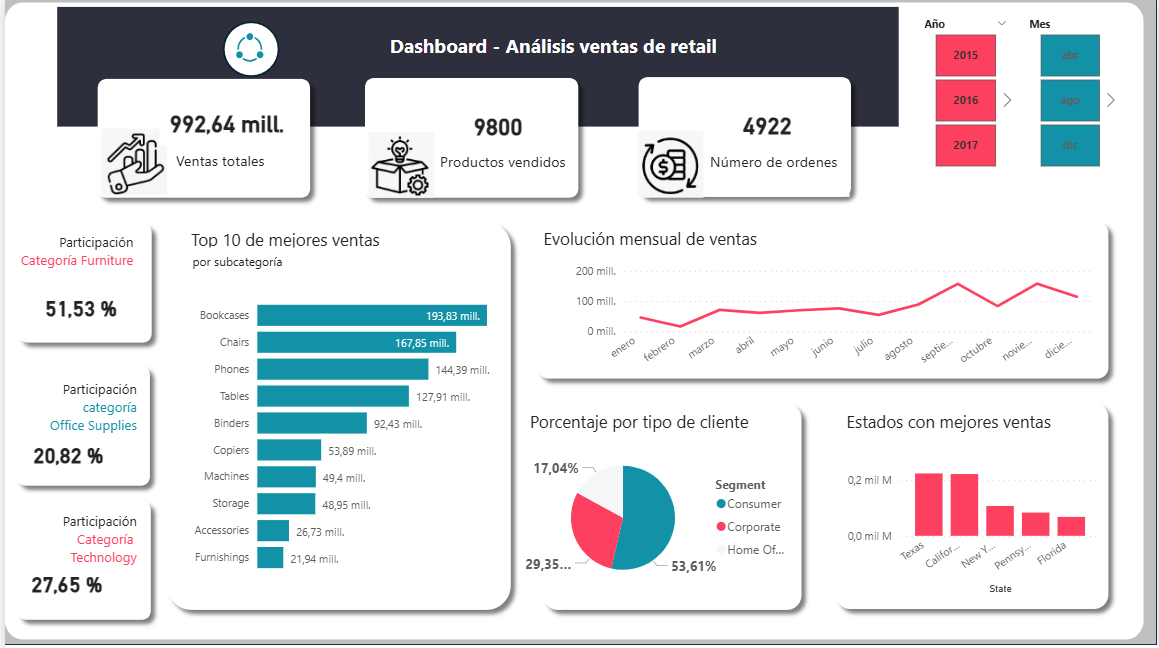

What the dashboard file says about the page in this screenshot:
{"tool":"powerbi","page":{"name":"Página 1","canvas":[1280,720],"ordinal":0},"visuals":[{"type":"card","fields":{"Values":["Sum(dataset_limpio.Sales)"]},"box":[171.7,111.7,148.3,50],"z":0},{"type":"textbox","box":[185,161.7,143.3,55],"z":1000},{"type":"slicer","fields":{"Values":["dataset_limpio.Order Year"]},"box":[1008.3,13.3,116.7,178.3],"z":2000},{"type":"slicer","fields":{"Values":["dataset_limpio.Mes"]},"box":[1125,13.3,115,178.3],"z":3000},{"type":"card","fields":{"Values":["CountNonNull(dataset_limpio.Sub-Category)"]},"box":[488.3,110,118.3,60],"z":4000},{"type":"textbox","box":[478.3,163.3,150,53.3],"z":5000},{"type":"card","fields":{"Values":["dataset_limpio.Total Ordenes"]},"box":[778.3,101.7,136.7,73.3],"z":6000},{"type":"textbox","box":[778.3,163.3,160,55],"z":7000},{"type":"card","fields":{"Values":["dataset_limpio.% Participación Categoría"]},"box":[35.9,313.4,94.4,58.5],"z":8000},{"type":"card","fields":{"Values":["dataset_limpio.% Participación Categoría"]},"box":[18.3,475,103.3,60],"z":9000},{"type":"card","fields":{"Values":["dataset_limpio.% Participación Categoría"]},"box":[21.7,618.3,93.3,60],"z":10000},{"type":"textbox","box":[10,253.3,141.7,80],"z":11000},{"type":"textbox","box":[10,416.7,141.7,71.7],"z":12000},{"type":"textbox","box":[10,563.3,141.7,73.3],"z":13000},{"type":"barChart","fields":{"Category":["dataset_limpio.Sub-Category"],"Y":["dataset_limpio.Ventas Totales"]},"box":[200,313.3,348.3,335],"z":14000},{"type":"textbox","box":[201.7,248.3,348.3,38.3],"z":15000},{"type":"textbox","box":[203.3,275,348.3,33.3],"z":16000},{"type":"lineChart","fields":{"Category":["dataset_limpio.Order Date.Variación.Jerarquía de fechas.Mes"],"Y":["Sum(dataset_limpio.Sales)"]},"box":[628.3,286.7,585,130],"z":17000},{"type":"textbox","box":[593.3,246.7,348.3,38.3],"z":18000},{"type":"columnChart","fields":{"Category":["dataset_limpio.State"],"Y":["dataset_limpio.Ventas Totales"]},"box":[930,488.3,291.7,176.7],"z":19000},{"type":"textbox","box":[930,450,290,35],"z":20000},{"type":"pieChart","fields":{"Category":["dataset_limpio.Segment"],"Y":["dataset_limpio.% Participación segmentos"]},"box":[578.3,488.3,305,173.3],"z":20001},{"type":"textbox","box":[578.3,450,290,35],"z":20002}]}

Visuals, with their boxes in screenshot pixels (x1, y1, x2, y2), scaled from the page's 1280x720 canvas onto the 1159x648 screenshot:
card - Sum(dataset_limpio.Sales): 155, 101, 290, 146
textbox: 168, 146, 297, 195
slicer - dataset_limpio.Order Year: 913, 12, 1019, 172
slicer - dataset_limpio.Mes: 1019, 12, 1123, 172
card - CountNonNull(dataset_limpio.Sub-Category): 442, 99, 549, 153
textbox: 433, 147, 569, 195
card - dataset_limpio.Total Ordenes: 705, 92, 829, 158
textbox: 705, 147, 850, 196
card - dataset_limpio.% Participación Categoría: 33, 282, 118, 335
card - dataset_limpio.% Participación Categoría: 17, 428, 110, 482
card - dataset_limpio.% Participación Categoría: 20, 556, 104, 610
textbox: 9, 228, 137, 300
textbox: 9, 375, 137, 440
textbox: 9, 507, 137, 573
barChart - dataset_limpio.Sub-Category x dataset_limpio.Ventas Totales: 181, 282, 496, 583
textbox: 183, 223, 498, 258
textbox: 184, 248, 499, 277
lineChart - dataset_limpio.Order Date.Variación.Jerarquía de fechas.Mes x Sum(dataset_limpio.Sales): 569, 258, 1099, 375
textbox: 537, 222, 853, 256
columnChart - dataset_limpio.State x dataset_limpio.Ventas Totales: 842, 439, 1106, 598
textbox: 842, 405, 1105, 436
pieChart - dataset_limpio.Segment x dataset_limpio.% Participación segmentos: 524, 439, 800, 595
textbox: 524, 405, 786, 436
